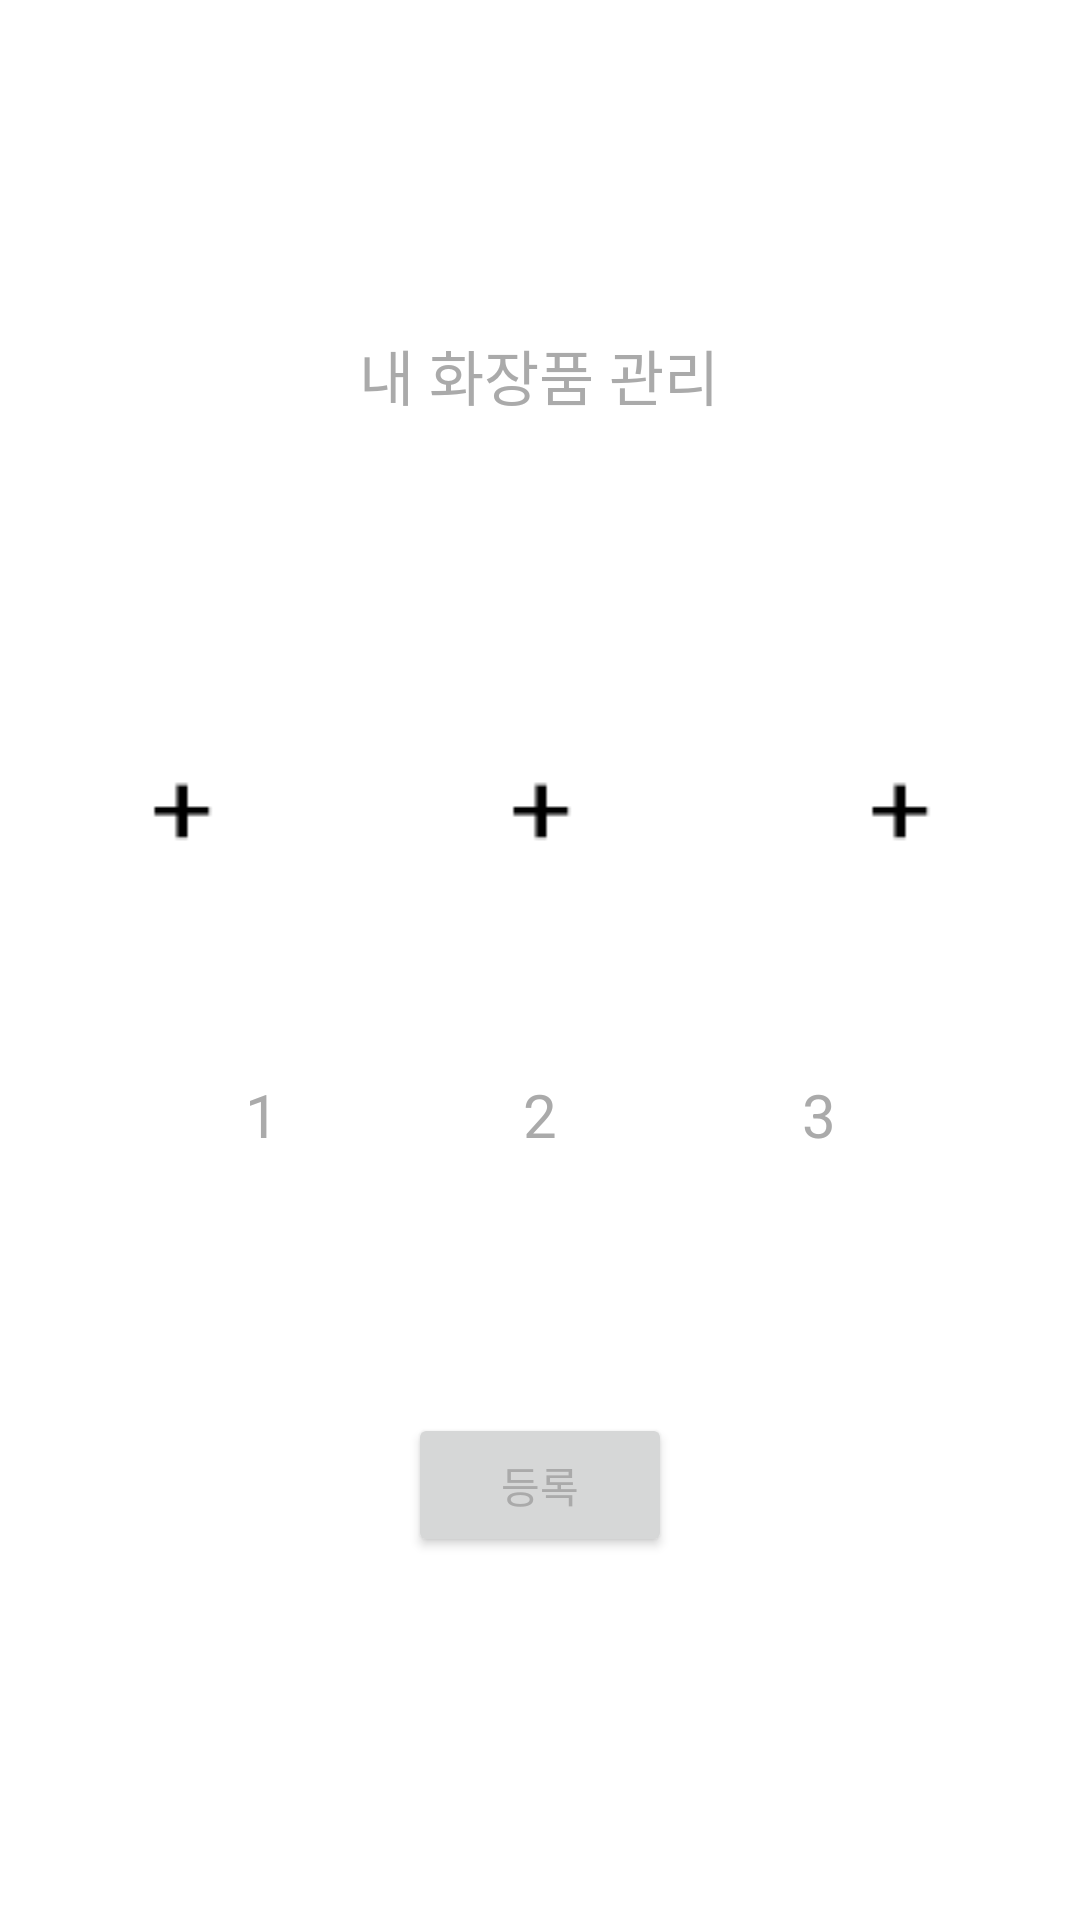

Locate icon controls on the screen. Image size 1080x1920, boxes as Rect(x1, y1, x2, y2).
add: Rect(153, 782, 211, 840), Rect(512, 782, 570, 840), Rect(871, 782, 929, 840)
